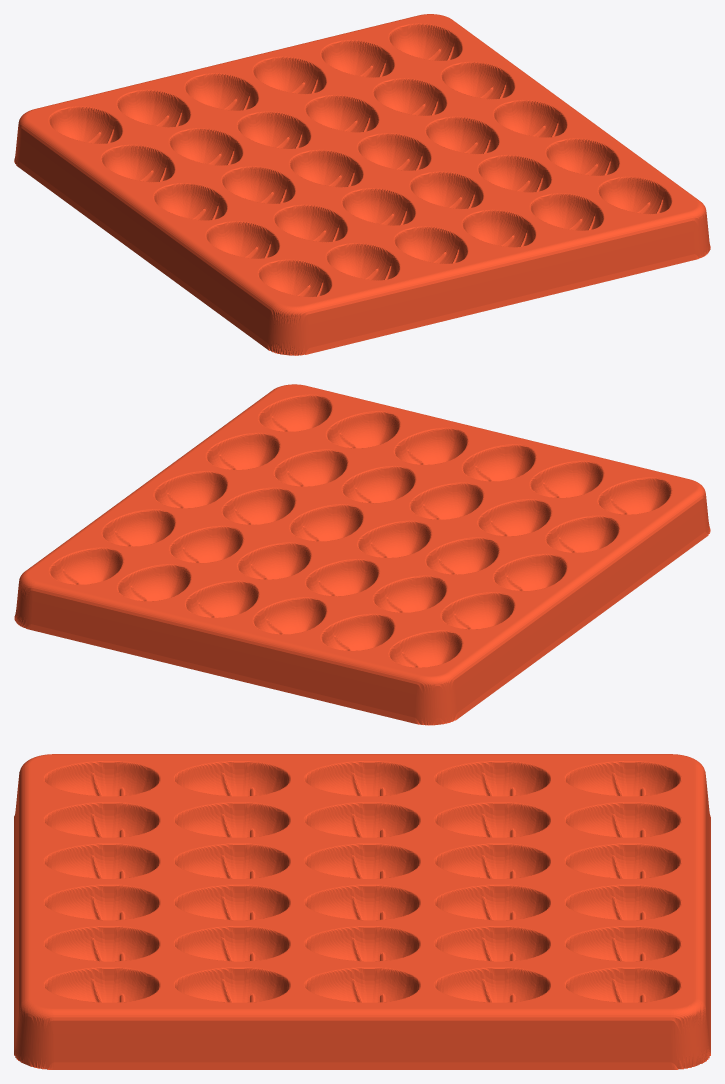
Rendered from mold.glb.
3 renders of one model, top to bottom at view 1: azimuth 30°, elevation 25°; view 2: azimuth 150°, elevation 25°; view 3: azimuth 270°, elevation 25°, orthographic. The views are drawn at different scales.
Visible parts, largest first — view 1: geometry_0; view 2: geometry_0; view 3: geometry_0.
Boxes of the visible parts, box(x1,y1,x2,y2) form: geometry_0: box(14, 14, 710, 355); geometry_0: box(14, 384, 710, 725); geometry_0: box(14, 754, 710, 1069).
Bounding box in the file's own units: 0.1434 × 0.0136 × 0.1581.
